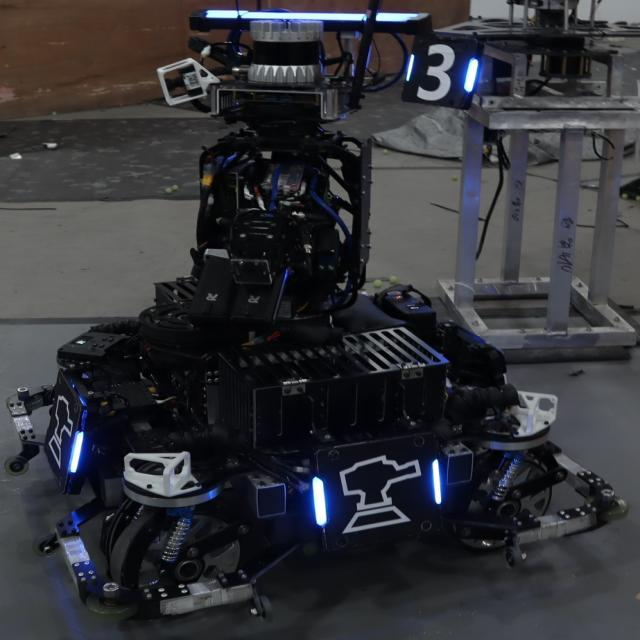B3: (404, 42, 474, 99)
Bs: (307, 445, 448, 542), (39, 381, 91, 477)
